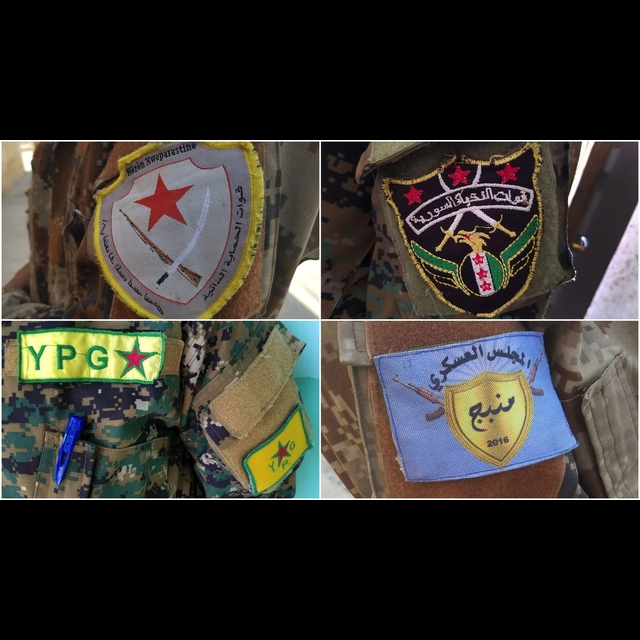YPG: (17, 331, 165, 384), (264, 436, 298, 473)
